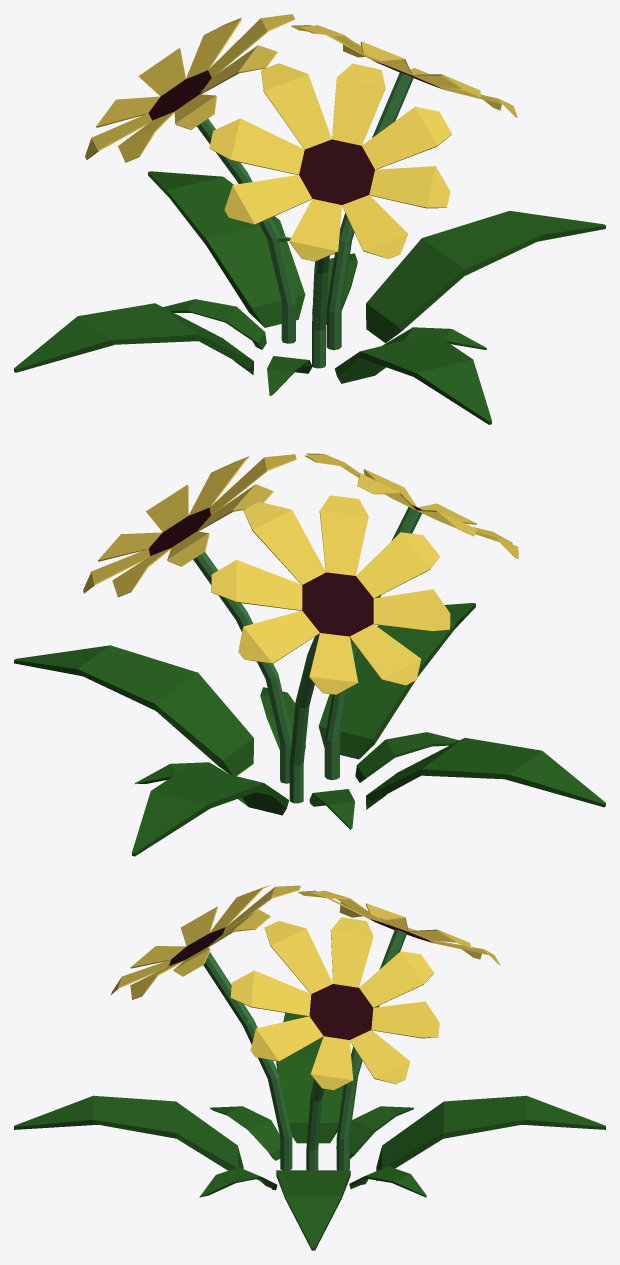
The model's file is sunflowers.fbx.
3 views of the same model, one above another, from view 1: azimuth 30°, elevation 25°; view 2: azimuth 150°, elevation 25°; view 3: azimuth 270°, elevation 25° (orthographic). The views are drawn at different scales.
Visible parts, largest first — view 1: Cube.003; view 2: Cube.003; view 3: Cube.003.
Part boxes in pixels (x1,y1,x2,y2): Cube.003: (14, 14, 605, 424); Cube.003: (14, 453, 605, 856); Cube.003: (14, 885, 605, 1250).
Size of the model in its own units: 157 by 77.57 by 157.
